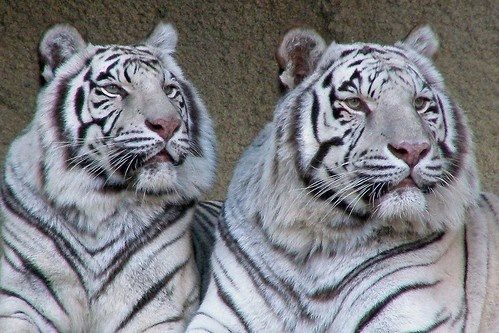tigre: (185, 22, 499, 331), (1, 15, 222, 333)
